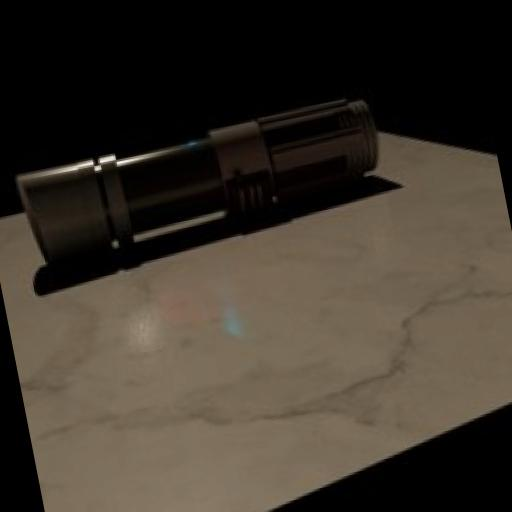lightsaber: (9, 88, 398, 274)
